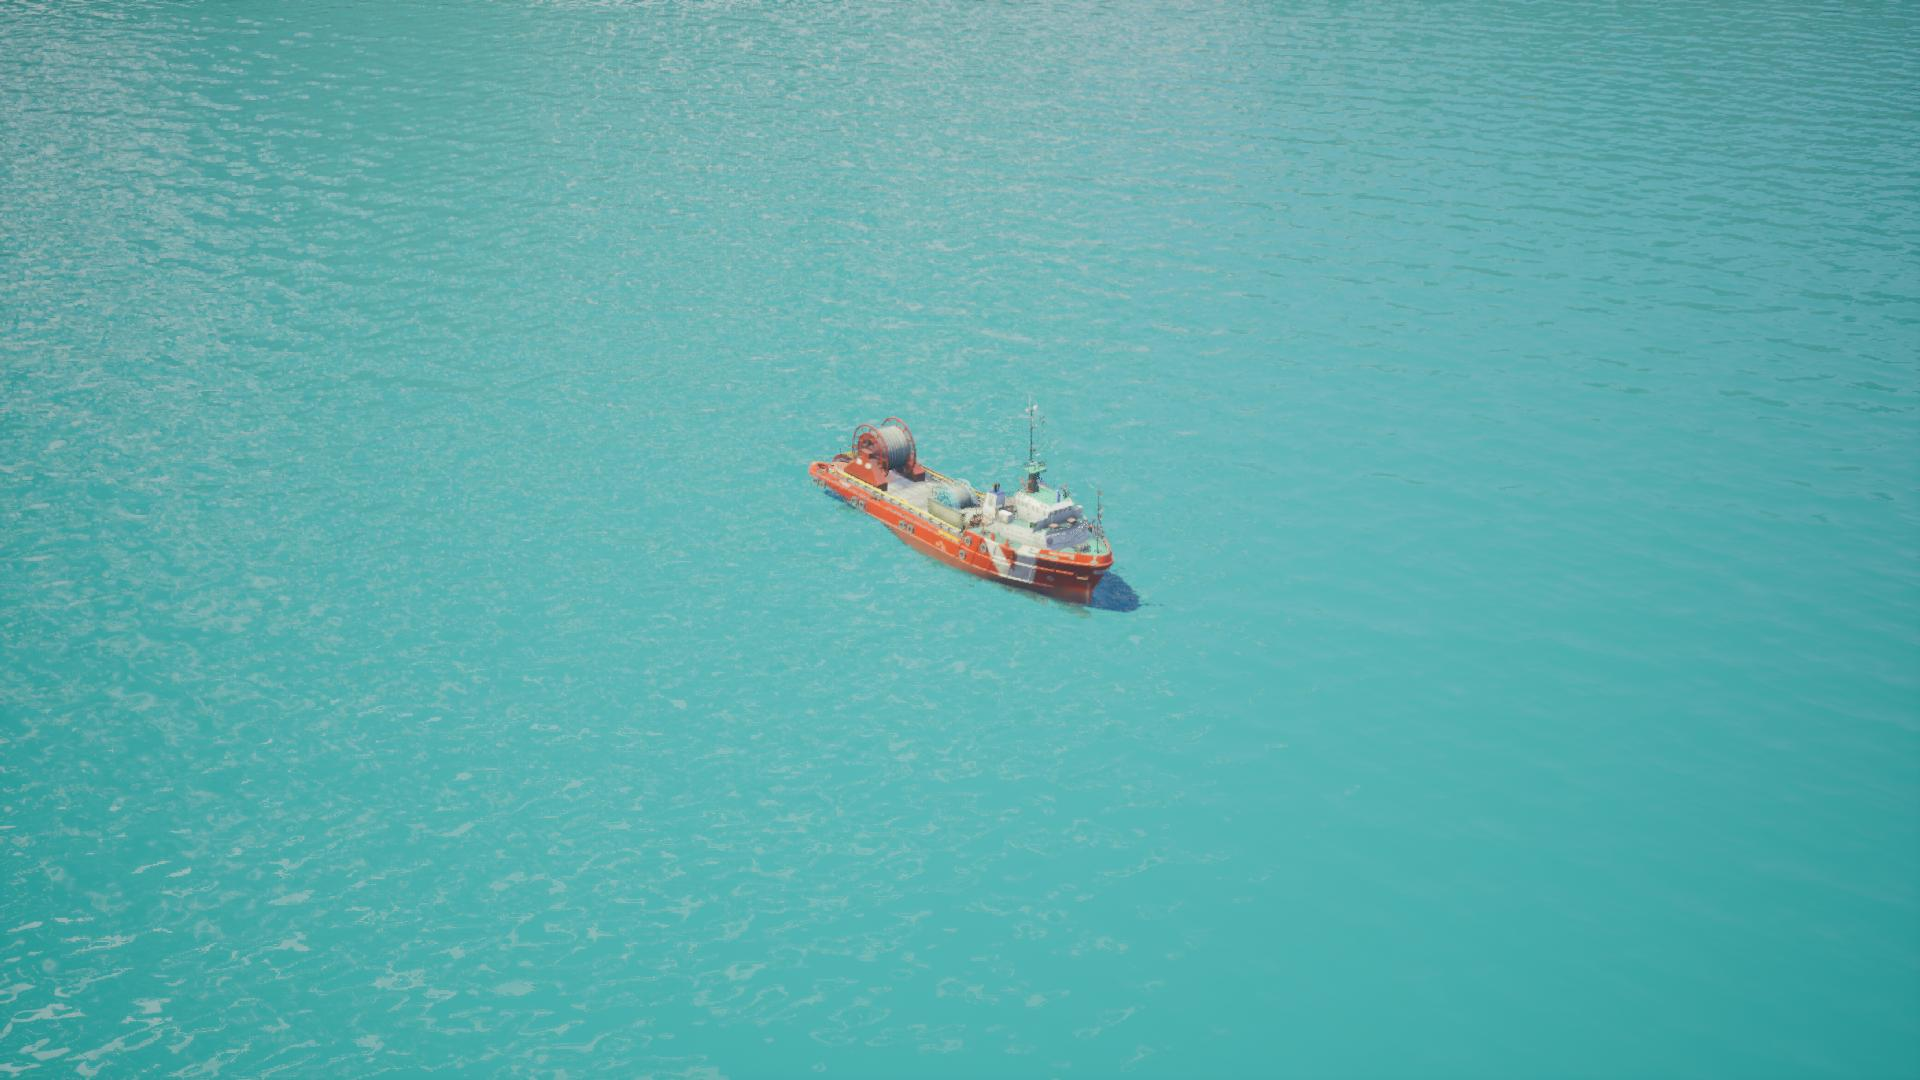Tug Boat: (808, 425, 1129, 617)
